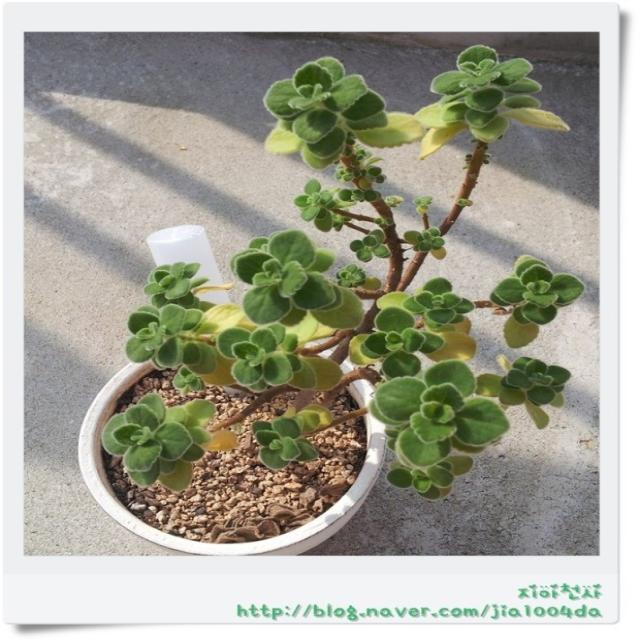Vicks: (264, 58, 424, 168), (417, 45, 567, 158), (373, 360, 508, 467), (103, 394, 236, 490), (231, 230, 340, 325), (125, 304, 256, 376), (217, 324, 342, 391), (476, 355, 570, 428), (490, 255, 585, 325), (360, 306, 445, 378), (252, 409, 323, 469), (402, 278, 474, 329), (143, 262, 209, 309), (295, 180, 355, 231), (404, 228, 446, 259), (350, 229, 389, 262)
